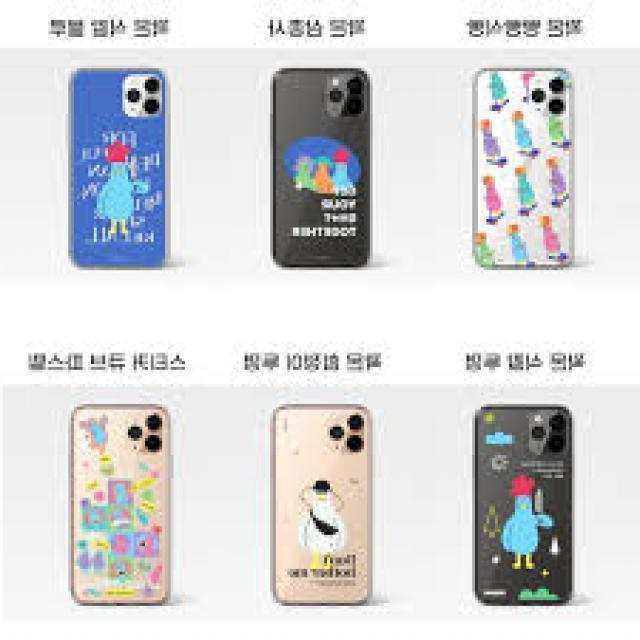mobile: (244, 52, 390, 285), (45, 59, 185, 287), (452, 53, 589, 283), (451, 395, 589, 615), (52, 395, 187, 616), (257, 394, 388, 615)
